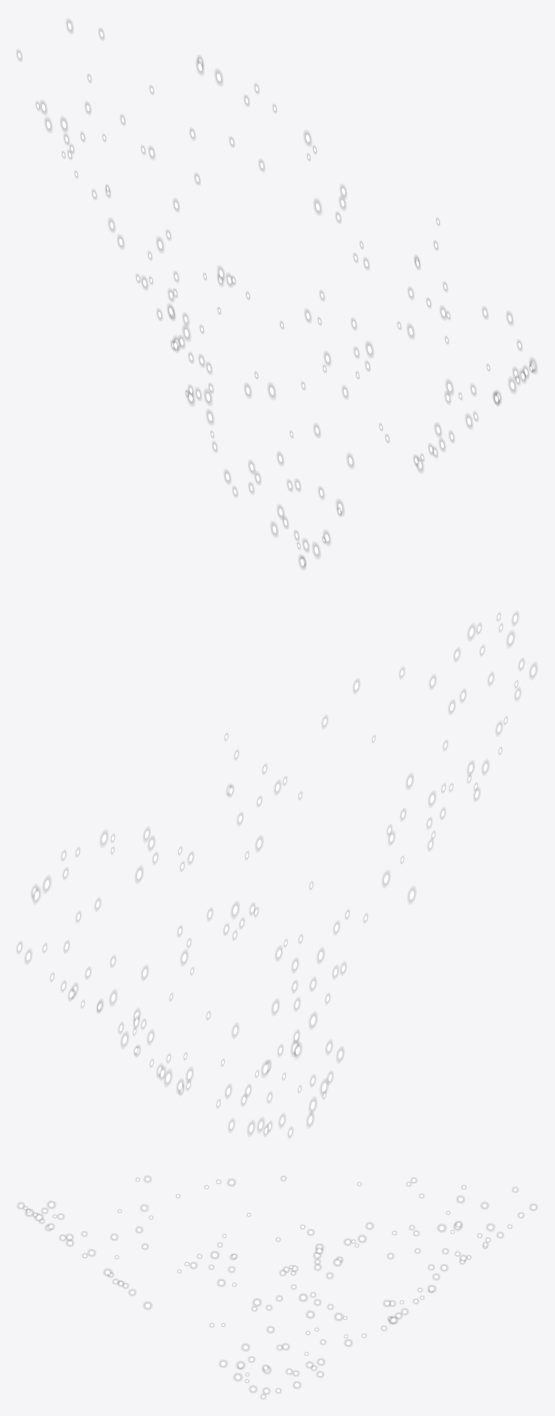
File: obj_particles_8.glb
The picture shows the model from 3 angles, top to bottom: view 1: azimuth 30°, elevation 25°; view 2: azimuth 150°, elevation 25°; view 3: azimuth 270°, elevation 25°; orthographic projection. The views are drawn at different scales.
Bounding box in the file's own units: 81.09 × 134 × 313.
Materials: 1 (1 with a texture image).
